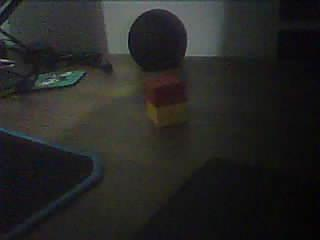lego: (143, 73, 187, 125)
